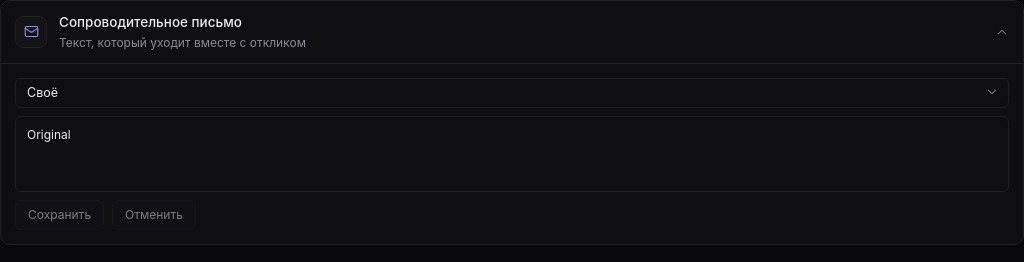
Test: a successful letter save is not undone by old socket props
Replace the text in the text box named "Сопроводительное письмо" with "Saved new letter". click: (512, 154)
box: [15,116,1009,192]
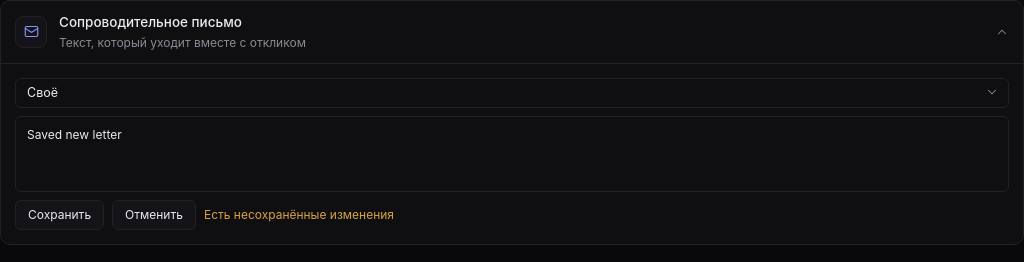
Click the button "Сохранить". click: (60, 215)
box: [15,200,104,230]
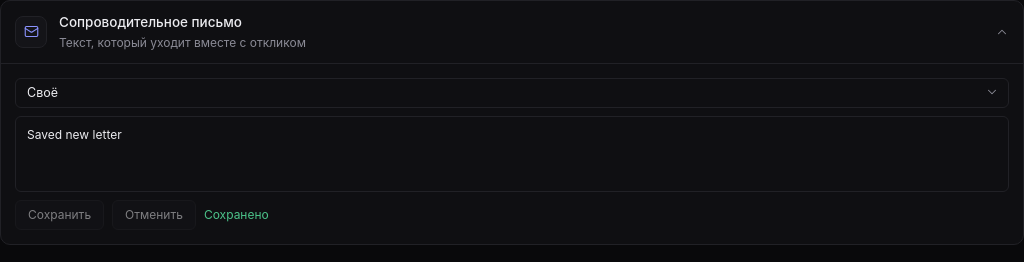
Now the text "Сохранено" is shown, box [204,206,269,223]
